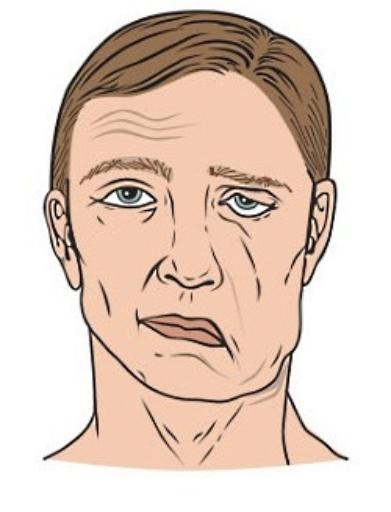left_eye: (216, 189, 276, 224)
left_lip_corner: (217, 324, 238, 362)
right_eye: (100, 185, 158, 210)
right_lip_corner: (138, 315, 154, 335)
